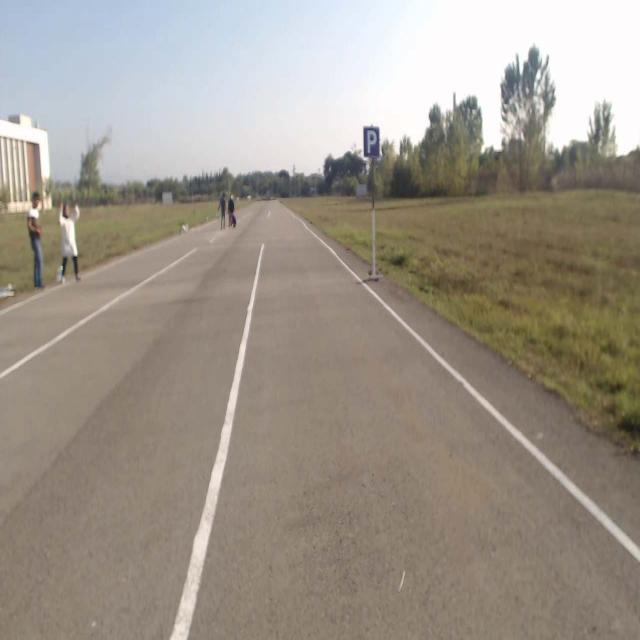park: (363, 126, 379, 156)
